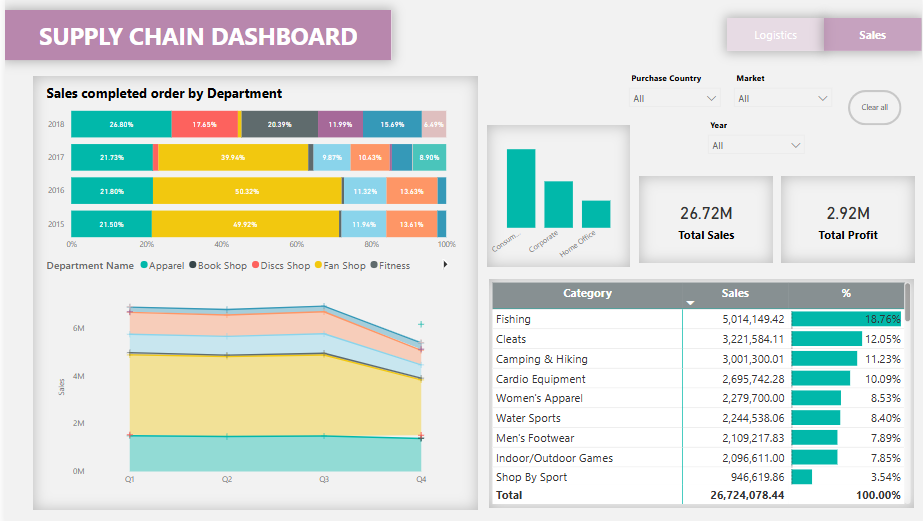

The dashboard page shown, as its layout file describes it:
{"tool":"powerbi","page":{"name":"sales","canvas":[1300,750],"ordinal":1},"visuals":[{"type":"shape","title":"Title","box":[0,15.9,547.6,71.4],"z":0},{"type":"actionButton","title":"Logistics","box":[1024.1,27.6,137.9,46.6],"z":0,"group":"g3"},{"type":"card","title":"On time","fields":{"Values":["Measure.profit_sum"]},"box":[1100.2,251.4,190.5,123],"z":0,"group":"g2"},{"type":"group","id":"g1","title":"Active button","box":[988,16,156,48],"z":1000},{"type":"actionButton","title":"Sales","box":[1161.9,27.6,137.9,46.6],"z":1000,"group":"g4"},{"type":"actionButton","title":"Sales","box":[1162,27.6,137.9,46.6],"z":1000,"group":"g3"},{"type":"card","title":"total","fields":{"Values":["Measure.Sales_completed_order"]},"box":[898.6,251.6,190.5,123.8],"z":1000,"group":"g2"},{"type":"group","id":"g2","title":"Group 1","box":[898.6,251.4,391.4,124.3],"z":3000},{"type":"shape","box":[39.7,108.6,631,615.5],"z":4000},{"type":"clusteredColumnChart","fields":{"Category":["DataCo_edited3.Segment"],"Y":["Measure.count_completed"]},"box":[682.8,179.3,203.4,201.7],"z":5000},{"type":"stackedAreaChart","fields":{"Category":["DATE_TABLE.QTR","DATE_TABLE.Month"],"Y":["Measure.Sales_completed_order"],"Series":["DataCo_edited3.Department Name"]},"box":[70.8,416.7,579.2,281.9],"z":6000},{"type":"pivotTable","fields":{"Rows":["DataCo_edited3.Category","DataCo_edited3.Product Name"],"Values":["Measure.Sales_completed_order","Divide(Measure.Sales_completed_order, ScopedEval(Measure.Sales_completed_order, []))"]},"box":[686.2,396.6,603.4,324.1],"z":7000},{"type":"hundredPercentStackedBarChart","title":"Sales completed order by Department","fields":{"Y":["Measure.Sales_completed_order"],"Category":["DATE_TABLE.Year"],"Series":["DataCo_edited3.Department Name"]},"box":[53.4,120.7,589.7,275.9],"z":8000},{"type":"card","fields":{"Values":["Measure.Blank_charts"]},"box":[755.6,503.7,494.4,151.9],"z":9000},{"type":"card","fields":{"Values":["Measure.Blank_charts"]},"box":[113,205.6,498.1,150],"z":10000},{"type":"card","fields":{"Values":["Measure.Blank_charts"]},"box":[70.4,481.5,583.3,174.1],"z":11000},{"type":"group","id":"g3","title":"inactive","box":[1024.1,27.6,275.9,46.6],"z":12000},{"type":"group","id":"g4","title":"active","box":[1024,27.6,275.9,46.6],"z":13000},{"type":"slicer","fields":{"Values":["DATE_TABLE.Year"]},"box":[987.1,164.3,157.1,82.9],"z":14000},{"type":"slicer","fields":{"Values":["DataCo_edited3.Market"]},"box":[1024.3,97.1,158.6,82.9],"z":15000},{"type":"actionButton","box":[1194.8,129.3,75.9,50],"z":16000},{"type":"slicer","fields":{"Values":["DataCo_edited3.purchase country"]},"box":[874.3,97.1,150,61.4],"z":16001}]}

Visuals, with their boxes in screenshot pixels (x1, y1, x2, y2), scaled from the page's 1300x750 canvas onto the 923x521 screenshot:
"Title" shape: 0:11:389:61
"Logistics" actionButton: 727:19:825:52
"On time" card: 781:175:916:260
"Active button" group: 701:11:812:44
"Sales" actionButton: 825:19:922:52
"Sales" actionButton: 825:19:922:52
"total" card: 638:175:773:261
"Group 1" group: 638:175:916:261
shape: 28:75:476:503
clusteredColumnChart - DataCo_edited3.Segment x Measure.count_completed: 485:125:629:265
stackedAreaChart - DATE_TABLE.QTR x DATE_TABLE.Month: 50:289:462:485
pivotTable - DataCo_edited3.Category x DataCo_edited3.Product Name: 487:276:916:501
"Sales completed order by Department" hundredPercentStackedBarChart: 38:84:457:276
card - Measure.Blank_charts: 536:350:888:455
card - Measure.Blank_charts: 80:143:434:247
card - Measure.Blank_charts: 50:334:464:455
"inactive" group: 727:19:922:52
"active" group: 727:19:922:52
slicer - DATE_TABLE.Year: 701:114:812:172
slicer - DataCo_edited3.Market: 727:67:840:125
actionButton: 848:90:902:125
slicer - DataCo_edited3.purchase country: 621:67:727:110
